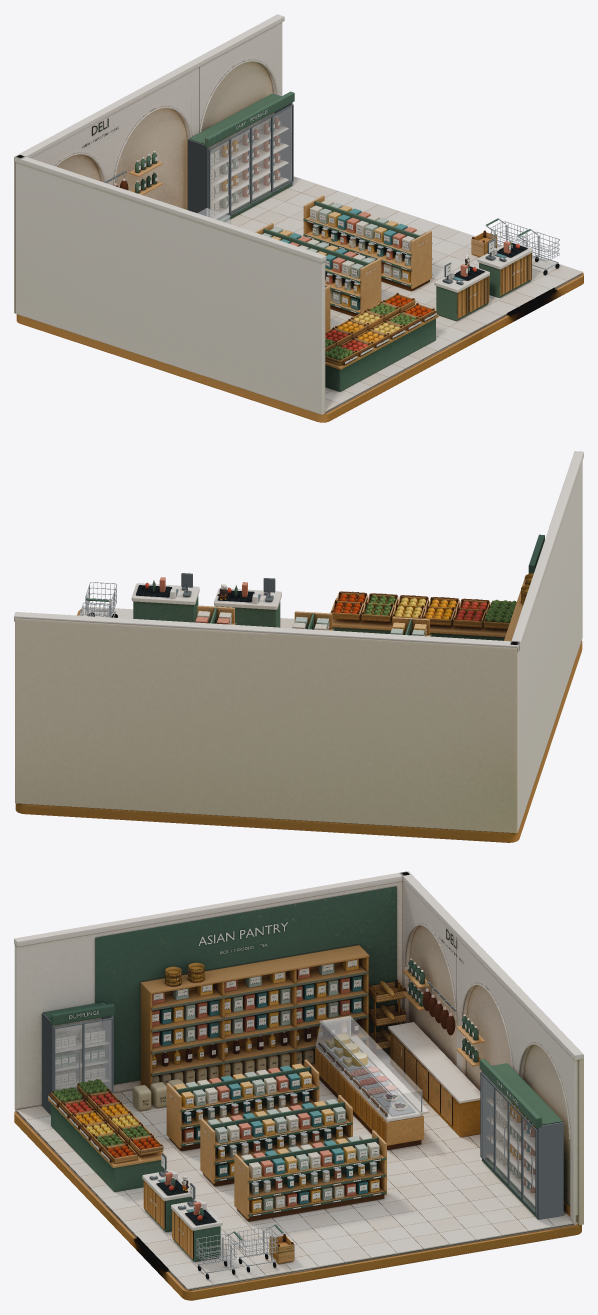
The model's file is supermarket.glb.
3 renders of one model, top to bottom at view 1: azimuth 30°, elevation 25°; view 2: azimuth 150°, elevation 25°; view 3: azimuth 270°, elevation 25°, orthographic. The views are drawn at different scales.
Parts seen in each view (by area): view 1: Baked supermarket architecture, Baked supermarket details, Live glass and reflective metal; view 2: Baked supermarket architecture, Baked supermarket details, Live glass and reflective metal; view 3: Baked supermarket architecture, Baked supermarket details, Live glass and reflective metal.
Part boxes in pixels (x1,y1,x2,y2): Baked supermarket architecture: [14, 14, 583, 422]; Baked supermarket details: [92, 116, 583, 411]; Live glass and reflective metal: [104, 93, 559, 293]; Baked supermarket architecture: [14, 451, 583, 842]; Baked supermarket details: [79, 573, 533, 636]; Live glass and reflective metal: [79, 573, 275, 617]; Baked supermarket architecture: [14, 871, 583, 1300]; Baked supermarket details: [16, 929, 573, 1289]; Live glass and reflective metal: [42, 981, 563, 1274].
Bounding box in the file's own units: 21.47 × 7.24 × 20.74.
6 materials, 2 textured.
